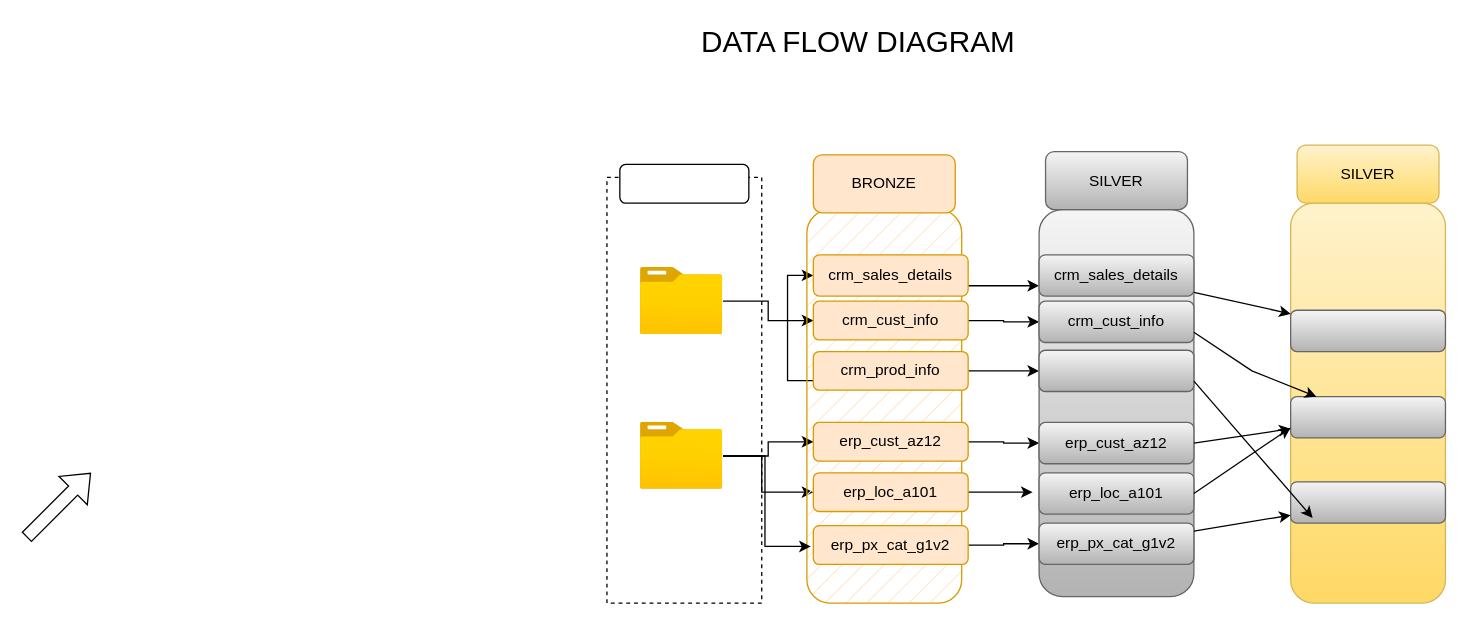
The diagram is 1469 pixels wide and 636 high, and some of its shapes have lost their labels. The shapes that lost their labels are listed below. From the top down, each one's centre as x and y in pixels, then its label:
At (684,183): "sources".
At (681,300): "CRM".
At (1367,330): "fact_sales".
At (1116,370): "crm_prd_info".
At (1367,416): "dim_customers".
At (681,455): "ERP".
At (1367,502): "dim_products".
